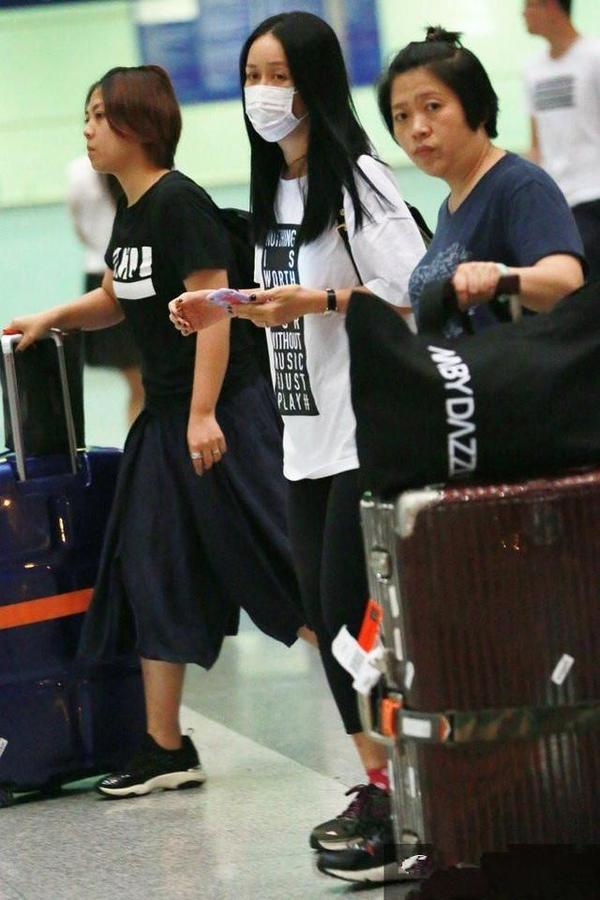face: (392, 67, 465, 176), (83, 87, 122, 171), (522, 1, 549, 35)
face_mask: (245, 53, 294, 143)
